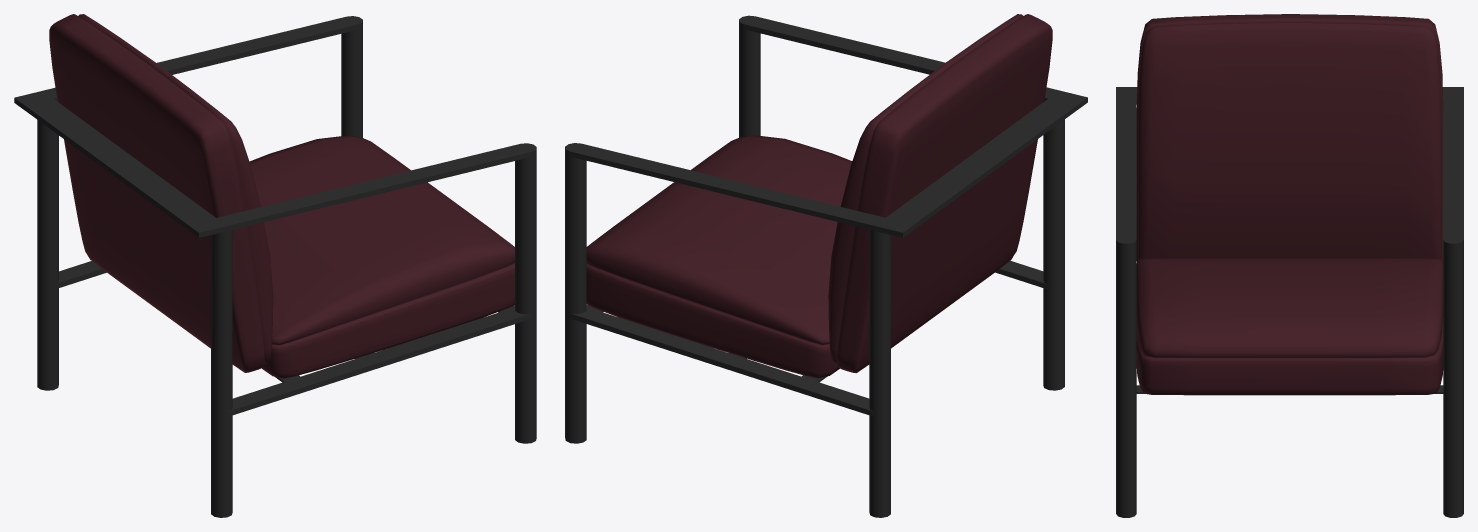
File: MSH_Lobby2_Sillon.fbx
3 views of the same model, side by side, from view 1: azimuth 30°, elevation 25°; view 2: azimuth 150°, elevation 25°; view 3: azimuth 270°, elevation 25° (orthographic). The views are drawn at different scales.
Parts seen in each view (by area): view 1: MSH_Lobby2_Sillon; view 2: MSH_Lobby2_Sillon; view 3: MSH_Lobby2_Sillon.
Part boxes in pixels (x1,y1,x2,y2): MSH_Lobby2_Sillon: (14, 14, 536, 517); MSH_Lobby2_Sillon: (565, 14, 1087, 517); MSH_Lobby2_Sillon: (1116, 14, 1463, 517).
Bounding box in the file's own units: 86.99 × 92.32 × 80.7.
